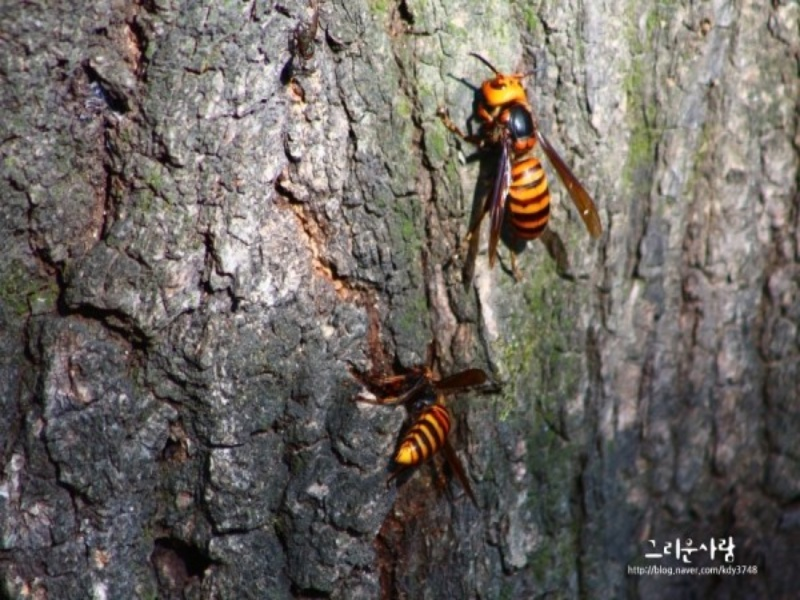asian_giant_hornet: (464, 62, 557, 243), (381, 357, 461, 468)
